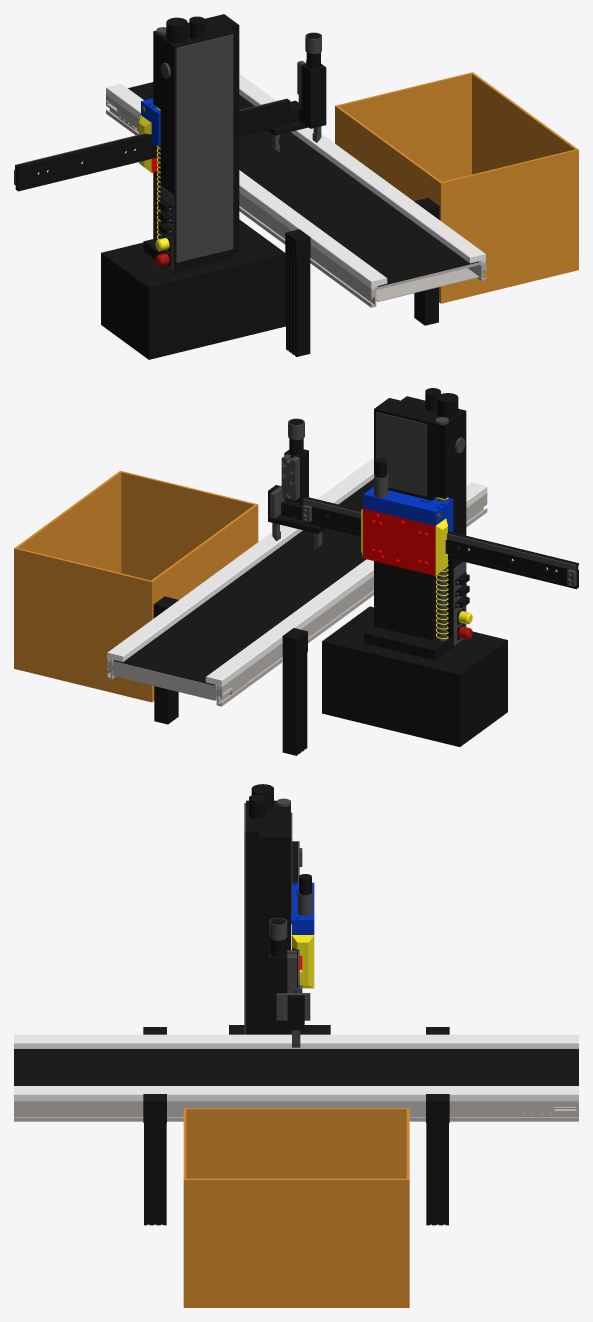
File: Collection_Box_Station.glb
3 renders of one model, top to bottom at view 1: azimuth 30°, elevation 25°; view 2: azimuth 150°, elevation 25°; view 3: azimuth 270°, elevation 25°, orthographic. The views are drawn at different scales.
Parts seen in each view (by area): view 1: color-49, color, color-47[2].001, color[26], color[25], color-5[3], color-47[3].001, color-47[4].001, color-47[5].001, color-48[1], color-47[1].001, color-48[2] (+4 smaller); view 2: color-49, color, color-47[2].001, color[25], color-47[3].001, color-47[4].001, color-5[3], color-2[7], color[24], color-48, color-47[5].001, color-47.001 (+10 smaller); view 3: color-49, color-47[2].001, color-47[3].001, color-47[4].001, color[25], color-47[5].001, color-48[2], color-48[3], color-47.001, color-5[7], color-2[5], color-2[1].
Part boxes in pixels (x1,y1,x2,y2): color-49: (335,72,578,303); color: (101,219,285,359); color-47[2].001: (128,82,479,286); color[26]: (175,34,233,262); color[25]: (153,14,239,263); color-5[3]: (15,99,290,191); color-47[3].001: (239,74,485,263); color-47[4].001: (106,83,387,289); color-47[5].001: (125,109,486,307); color-48[1]: (285,229,310,356); color-47[1].001: (376,268,478,301); color-48[2]: (414,197,439,325); color-49: (14,470,258,702); color: (322,606,507,746); color-47[2].001: (113,478,373,685); color[25]: (374,396,466,640); color-47[3].001: (107,458,373,661); color-47[4].001: (205,482,487,688); color-5[3]: (304,497,578,589); color-2[7]: (363,508,435,575); color[24]: (376,412,426,496); color-48: (282,628,307,755); color-47[5].001: (241,493,487,691); color-47.001: (107,659,248,706); color-49: (183,1108,409,1307); color-47[2].001: (14,1049,578,1085); color-47[3].001: (14,1086,578,1101); color-47[4].001: (14,1034,578,1048); color[25]: (246,800,290,1034); color-47[5].001: (14,1101,537,1121); color-48[2]: (143,1094,166,1225); color-48[3]: (426,1094,449,1225); color-47.001: (520,1101,578,1121); color-5[7]: (268,957,287,1018); color-2[5]: (291,935,314,988); color-2[1]: (291,882,314,934).
Bounding box in the file's own units: 1.11 × 0.6555 × 1.
